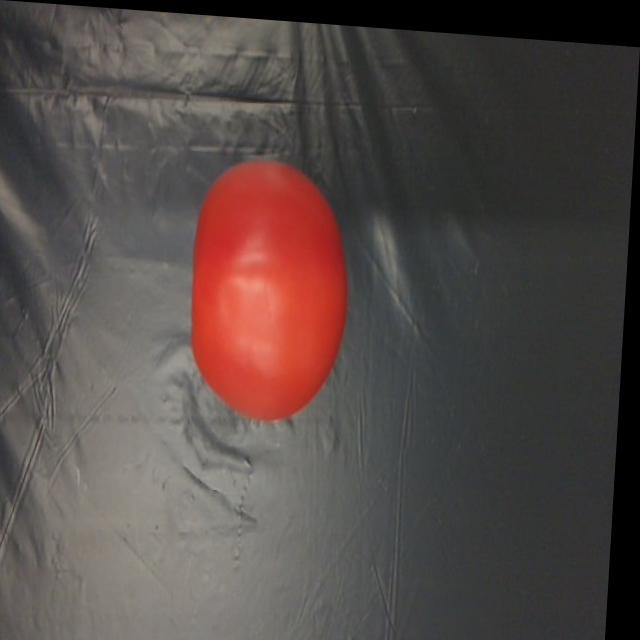kirmizi: (186, 138, 356, 421)
